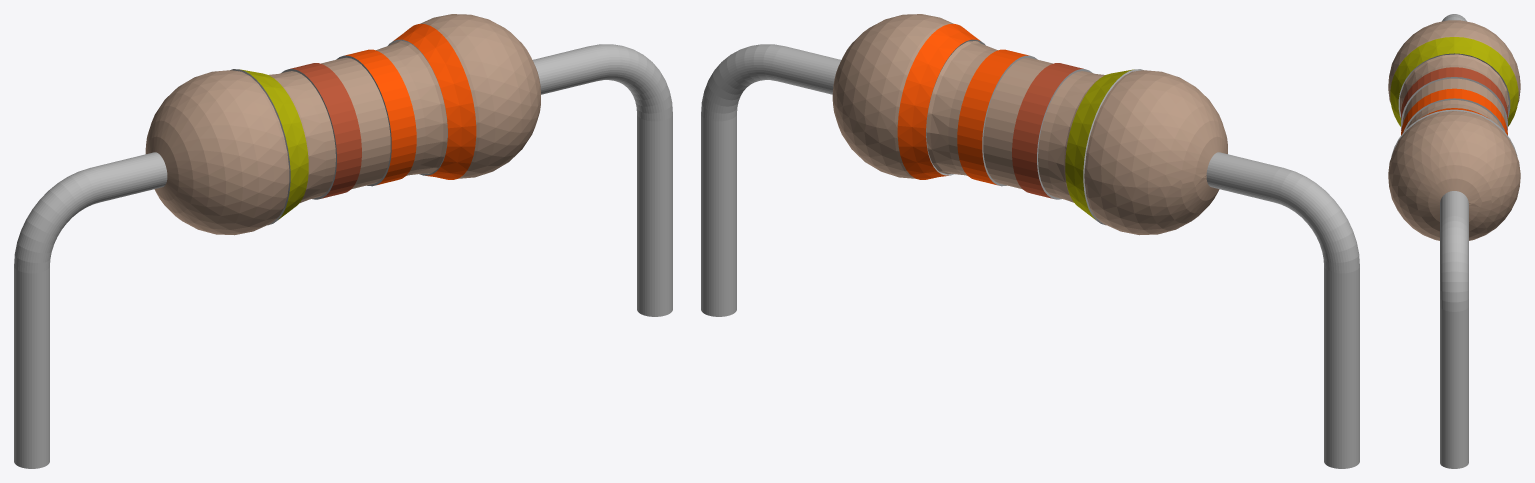
The model's file is resistor_axial.glb.
3 renders of one model, left to right at view 1: azimuth 30°, elevation 25°; view 2: azimuth 150°, elevation 25°; view 3: azimuth 270°, elevation 25°, orthographic. The views are drawn at different scales.
Parts seen in each view (by area): view 1: body_a, leads, band1, band2, band3; view 2: body_a, leads, band1, band2, band3; view 3: body_a, leads, band3, band1, band2.
Part boxes in pixels (box(x1,y1,x2,y2)): body_a: box(145, 14, 540, 235); leads: box(14, 39, 672, 468); band1: box(345, 24, 476, 185); band2: box(290, 63, 361, 198); band3: box(240, 69, 308, 219); body_a: box(832, 14, 1227, 235); leads: box(701, 39, 1359, 468); band1: box(897, 24, 1028, 185); band2: box(1012, 63, 1083, 198); band3: box(1065, 69, 1133, 219); body_a: box(1388, 20, 1520, 240); leads: box(1391, 14, 1517, 468); band3: box(1390, 37, 1518, 126); band1: box(1401, 88, 1507, 135); band2: box(1401, 67, 1507, 120).
Bounding box in the file's own units: 0.0105 × 0.00514 × 0.0023.
